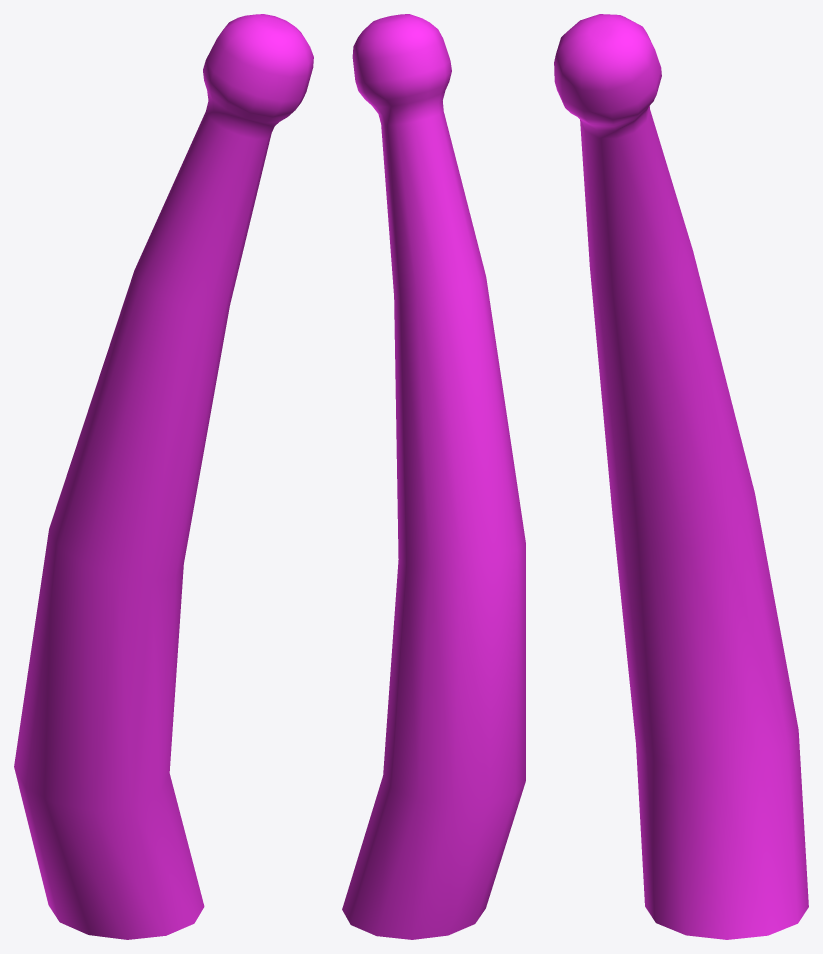
File: plant.fbx
3 renders of one model, left to right at view 1: azimuth 30°, elevation 25°; view 2: azimuth 150°, elevation 25°; view 3: azimuth 270°, elevation 25°, orthographic. The views are drawn at different scales.
Visible parts, largest first — view 1: Line003; view 2: Line003; view 3: Line003.
Part boxes in pixels (bbox=[...]): Line003: bbox=[14, 14, 313, 939]; Line003: bbox=[342, 14, 525, 939]; Line003: bbox=[554, 14, 808, 939].
Size of the model in its own units: 2.14 by 8.23 by 2.06.
